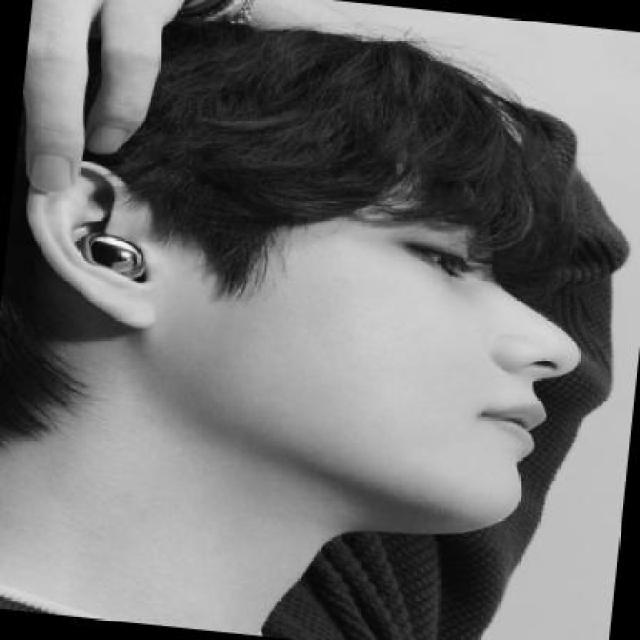earphone: (74, 215, 164, 306)
